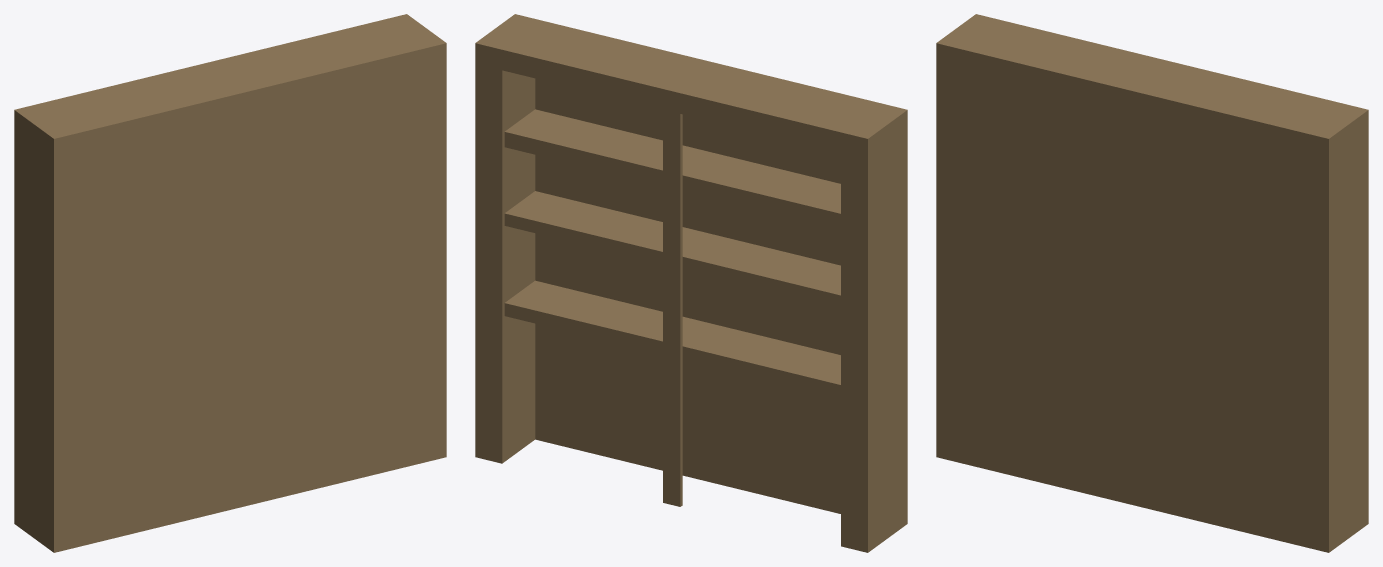
File: PantryShelf.fbx
3 views of the same model, side by side, from view 1: azimuth 30°, elevation 25°; view 2: azimuth 150°, elevation 25°; view 3: azimuth 330°, elevation 25° (orthographic).
Parts seen in each view (by area): view 1: PantryCabinet; view 2: PantryCabinet; view 3: PantryCabinet.
Boxes of the visible parts, left/top/right/bottom form: PantryCabinet: left=14, top=14, right=446, bottom=552; PantryCabinet: left=475, top=14, right=907, bottom=552; PantryCabinet: left=936, top=14, right=1368, bottom=552.
Size of the model in its own units: 121 by 121 by 21.19.
